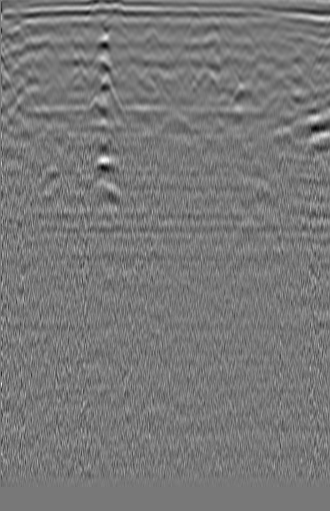가스: (87, 149, 120, 180)
상수: (10, 26, 30, 46)
오수: (283, 48, 312, 72)
우수: (137, 26, 164, 53)
